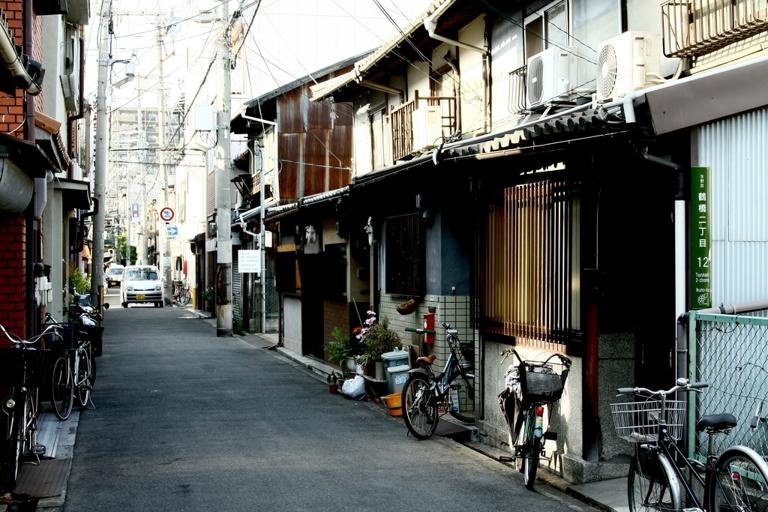non-vehicle: (611, 375, 768, 512), (495, 346, 575, 490), (0, 320, 64, 489), (396, 321, 476, 439), (40, 310, 98, 423), (169, 281, 191, 305)
